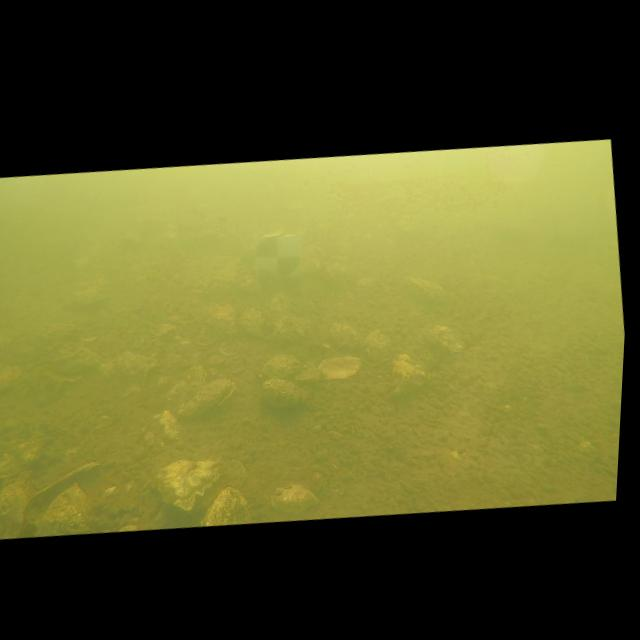Oyster-Closed: (156, 458, 225, 510), (178, 378, 235, 419), (201, 487, 251, 526), (100, 351, 158, 379), (392, 353, 429, 396), (271, 484, 319, 514), (260, 377, 307, 407), (260, 354, 303, 379), (406, 278, 445, 302), (205, 304, 236, 334), (272, 316, 305, 343), (330, 323, 364, 349), (429, 326, 462, 352), (239, 307, 264, 336), (365, 329, 390, 355), (268, 293, 289, 322)
Oyster-Indeterminate: (36, 481, 97, 533), (0, 470, 35, 538), (164, 363, 208, 408), (51, 345, 101, 380)
Oyster-Open: (318, 355, 360, 379)
